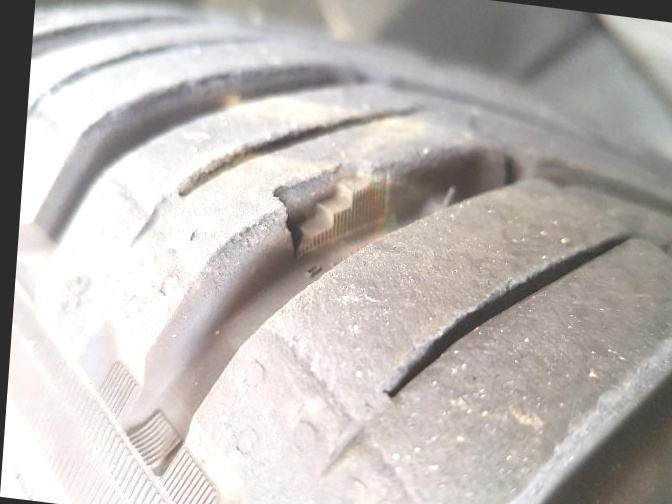temoin:90: (261, 137, 403, 272)
